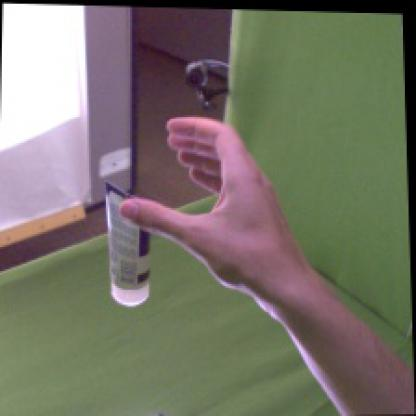Hand: (119, 117, 292, 295)
